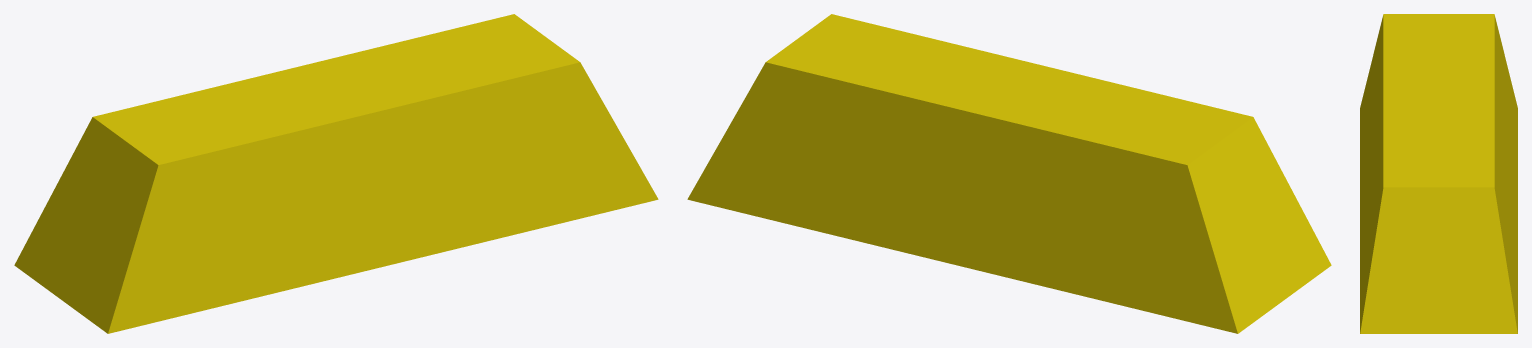
Rendered from goldbarren_2707.glb.
The picture shows the model from 3 angles, left to right: view 1: azimuth 30°, elevation 25°; view 2: azimuth 150°, elevation 25°; view 3: azimuth 270°, elevation 25°; orthographic projection. The views are drawn at different scales.
Visible parts, largest first — view 1: pCubeShape1; view 2: pCubeShape1; view 3: pCubeShape1.
Boxes of the visible parts, box(x1,y1,x2,y2) form: pCubeShape1: box(14, 14, 658, 333); pCubeShape1: box(687, 14, 1331, 333); pCubeShape1: box(1360, 14, 1517, 333).
Size of the model in its own units: 0.0632 by 0.0157 by 0.0186.
